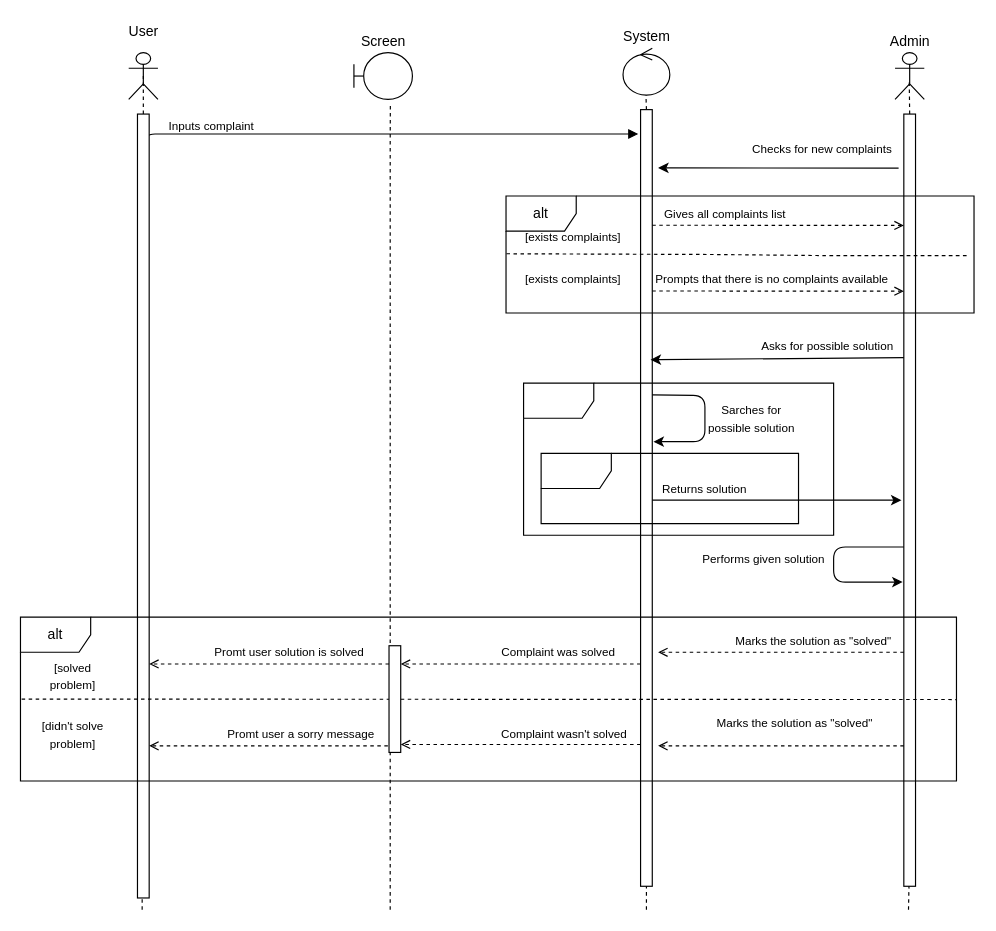
Some shapes in this 996 by 931 pixel diagram are drawn without their labels. Here are the shapes that lost their labels. From the top down, the box of each, then its label:
(522, 382, 834, 535): loop
(540, 452, 799, 524): break[solution found]
